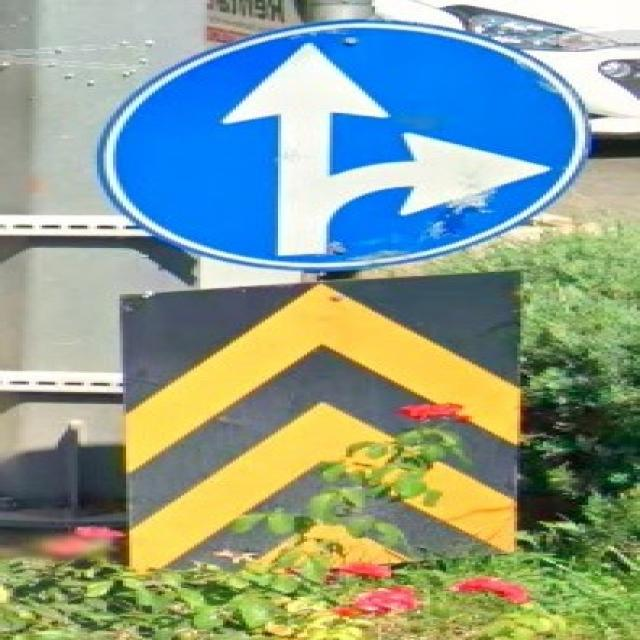Straight or Right: (93, 21, 585, 263)
